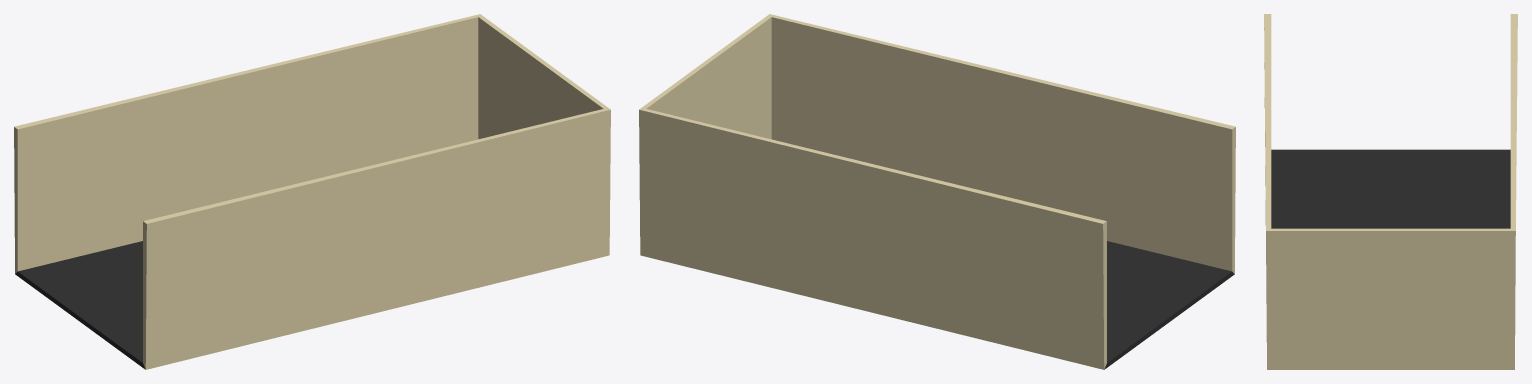
The model's file is LevelBox.fbx.
3 renders of one model, left to right at view 1: azimuth 30°, elevation 25°; view 2: azimuth 150°, elevation 25°; view 3: azimuth 270°, elevation 25°, orthographic. The views are drawn at different scales.
Visible parts, largest first — view 1: Plane; view 2: Plane; view 3: Plane.
Boxes of the visible parts, box(x1,y1,x2,y2) form: Plane: box(14, 14, 610, 369); Plane: box(639, 14, 1235, 369); Plane: box(1264, 14, 1517, 369).
Size of the model in its own units: 1714 by 517 by 848.
